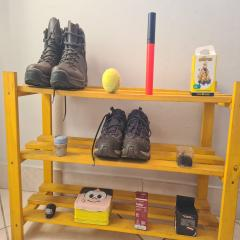bola: (102, 68, 122, 94)
bomba: (145, 10, 156, 96)
bota1: (24, 17, 88, 90)
bota2: (95, 106, 151, 163)
cx-bike: (175, 194, 198, 238)
cx-ferro: (134, 190, 148, 231)
cx-magali: (73, 185, 114, 226)
cx-minions: (189, 46, 218, 96)
cx-xuxa: (174, 145, 194, 169)
luz: (45, 202, 55, 220)
pote: (54, 136, 67, 157)
